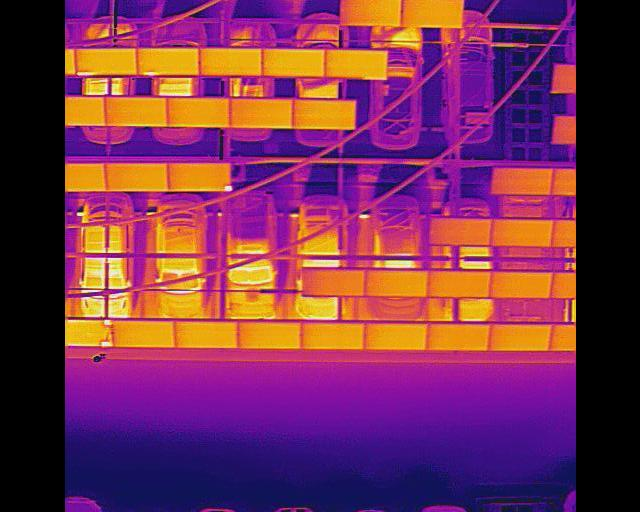Cell: (167, 163, 230, 191)
Cell-Multi: (64, 320, 113, 348)
No-Anomaly: (164, 96, 230, 129), (228, 97, 293, 129), (291, 99, 355, 130), (172, 319, 238, 349), (325, 50, 386, 81), (300, 322, 365, 351), (260, 49, 324, 78), (237, 321, 301, 350), (104, 97, 167, 126), (103, 164, 168, 192), (300, 270, 366, 297), (364, 323, 427, 351), (198, 48, 261, 76), (337, 0, 402, 27), (426, 322, 488, 350), (400, 0, 462, 28), (488, 324, 552, 351), (364, 270, 428, 297), (490, 220, 554, 247), (428, 219, 491, 246), (426, 271, 491, 297), (112, 320, 173, 347), (488, 273, 553, 298), (491, 169, 554, 194), (64, 164, 106, 192), (64, 96, 103, 125)
Unclassified: (72, 49, 136, 76), (135, 49, 198, 76)
